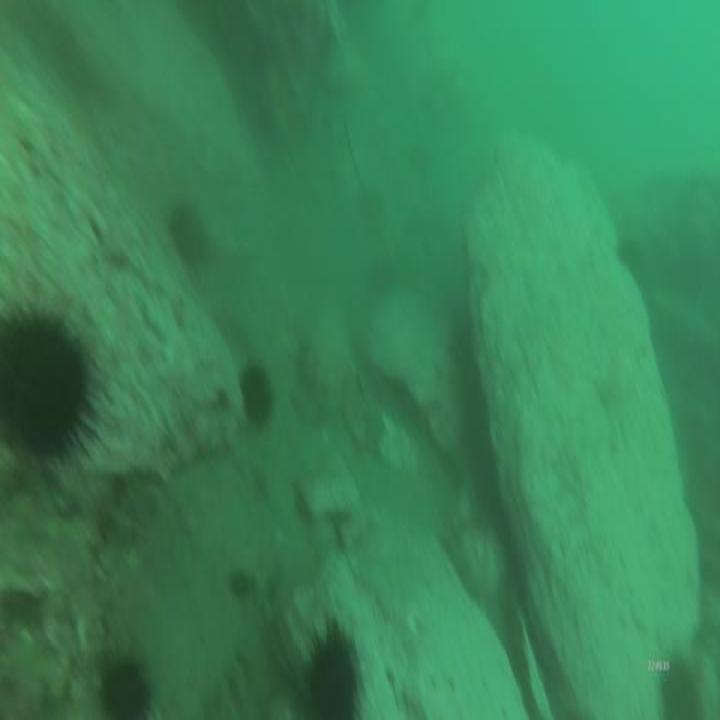echinus: (1, 297, 105, 483), (300, 620, 362, 720), (94, 649, 151, 720), (657, 645, 705, 720), (165, 196, 209, 270), (235, 356, 278, 430)
holothurian: (89, 462, 166, 610)
